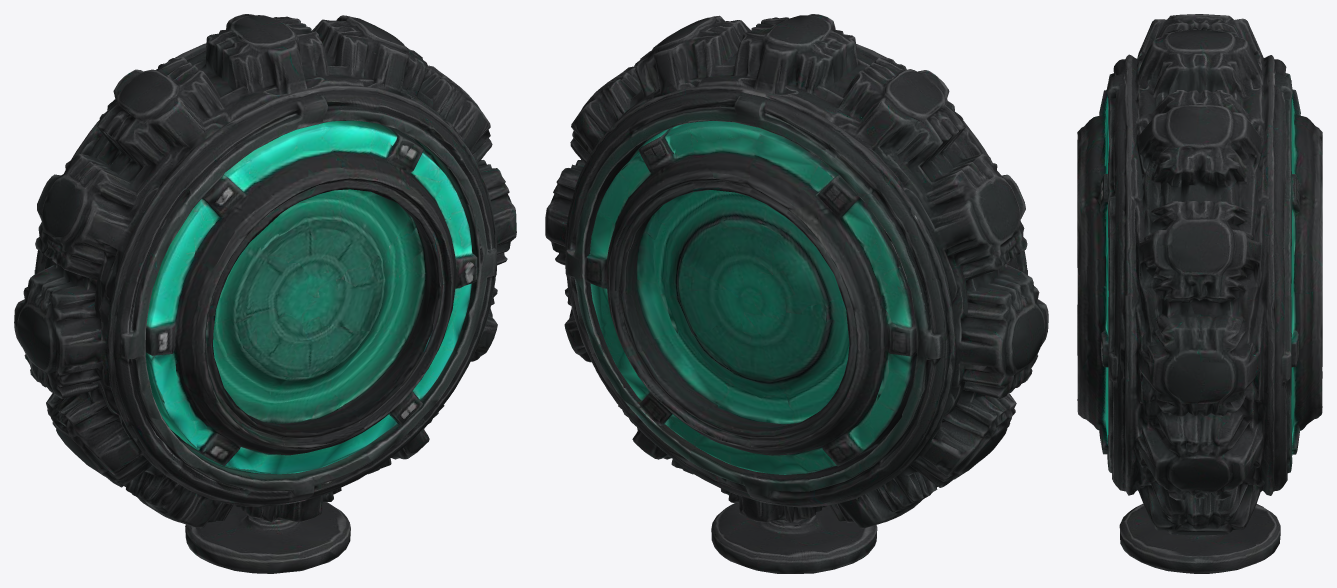
File: pickup-repair.glb
The picture shows the model from 3 angles, left to right: view 1: azimuth 30°, elevation 25°; view 2: azimuth 150°, elevation 25°; view 3: azimuth 270°, elevation 25°; orthographic projection. The views are drawn at different scales.
Bounding box in the file's own units: 1.79 × 1.9 × 0.8349.
1 material, 1 textured.
